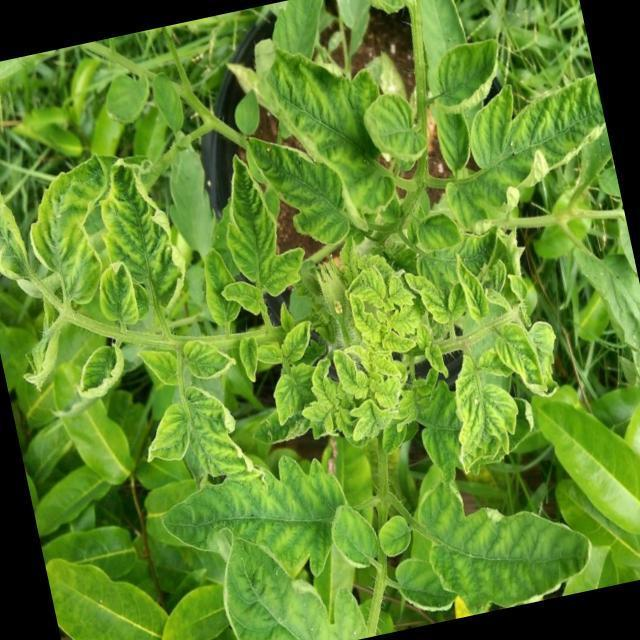Yellow Curl Virus: (427, 70, 622, 238), (153, 454, 360, 607), (411, 474, 600, 620), (236, 113, 354, 266), (87, 149, 192, 320), (133, 372, 265, 508), (15, 152, 125, 312), (216, 145, 312, 303), (418, 28, 508, 112), (357, 88, 427, 170), (187, 239, 246, 332), (72, 339, 134, 404), (490, 318, 542, 387), (426, 109, 476, 180), (94, 257, 140, 329), (178, 332, 240, 384), (448, 250, 490, 324), (132, 341, 182, 398), (340, 262, 389, 316), (280, 318, 322, 362), (237, 332, 266, 388)
